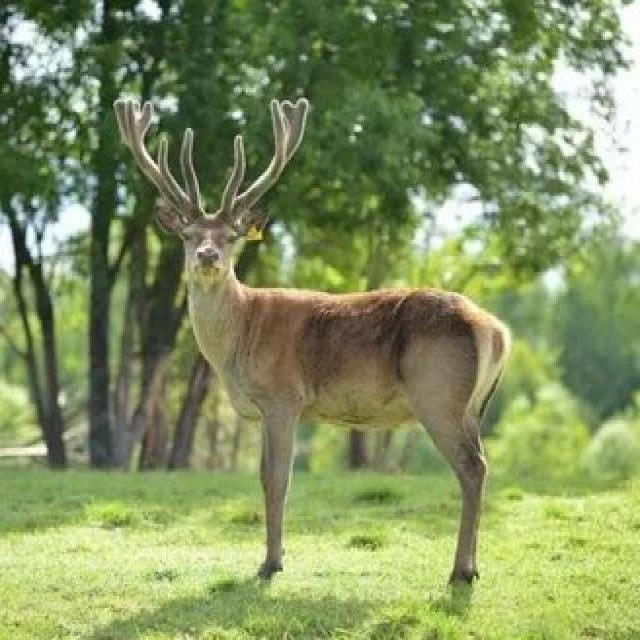deer: (70, 104, 588, 540)
